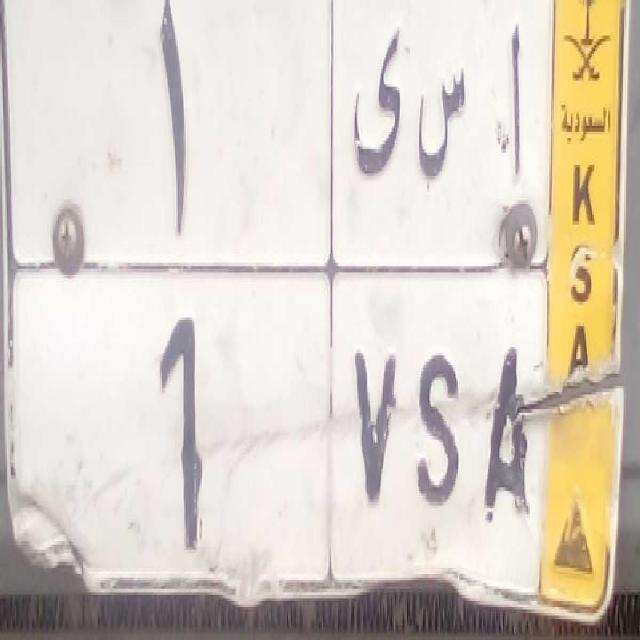license_plate: (5, 248, 548, 609)
